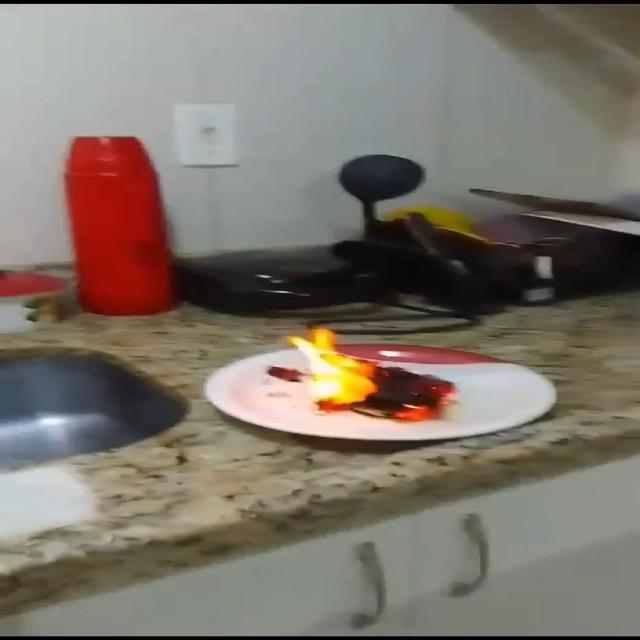fogo-ypXI: (283, 326, 461, 424)
